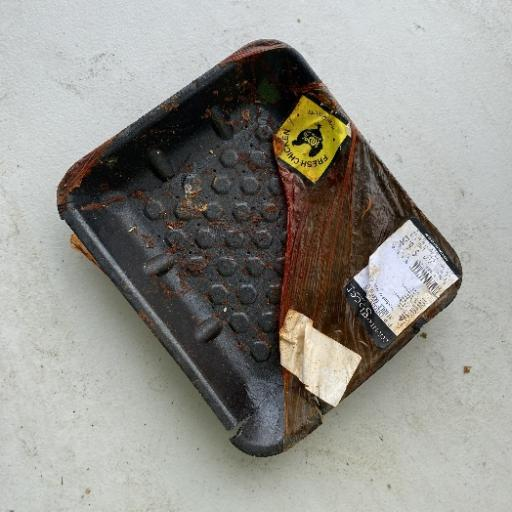Plastic: (55, 37, 464, 458)
